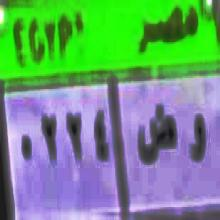0: (20, 125, 33, 176)
2: (40, 103, 61, 176), (66, 101, 86, 173)
4: (92, 109, 112, 171)
daad: (138, 102, 176, 172)
waw: (184, 108, 208, 177)
